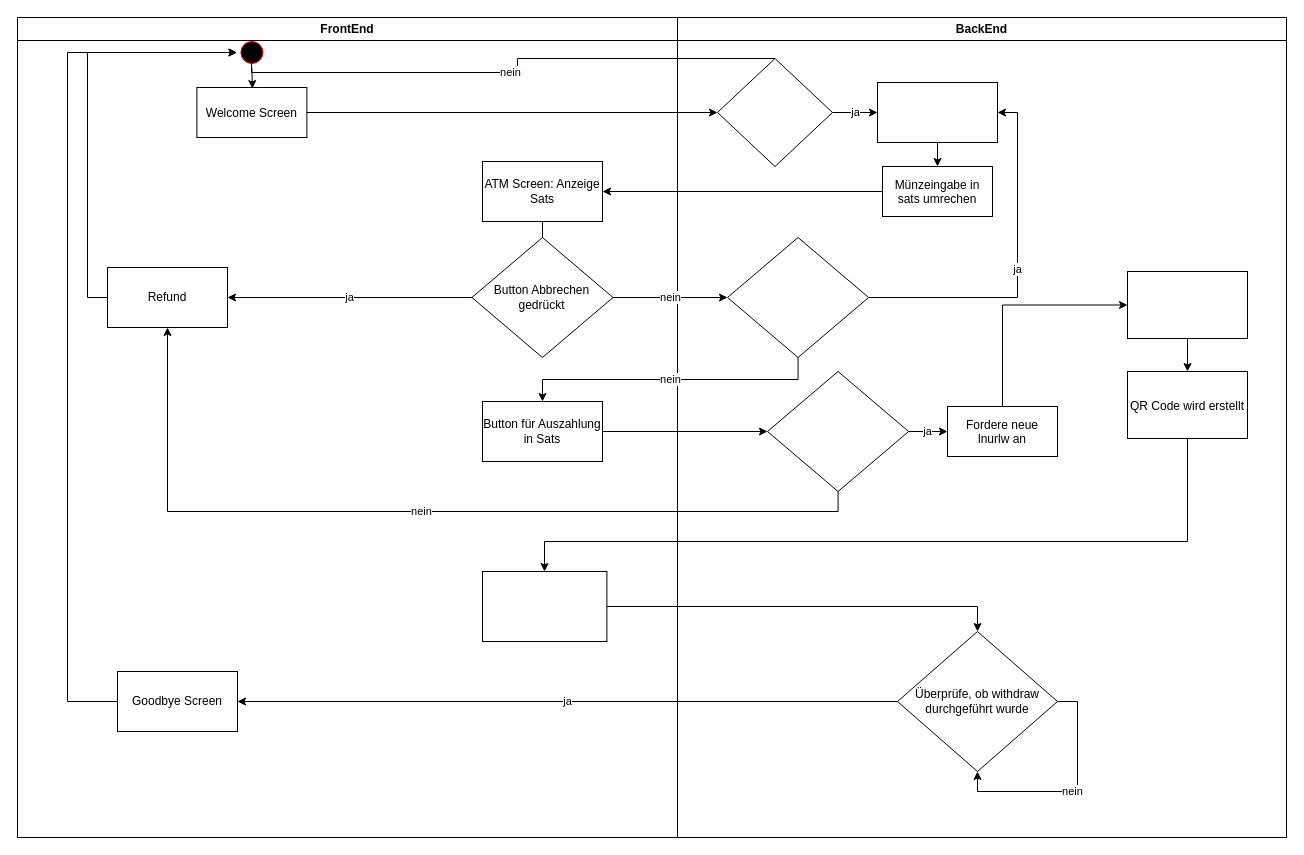
The diagram is 1304 pixels wide and 855 high, and some of its shapes have lost their labels. The centre of each missing label's shape, as x and y in pixels:
Balance ausreichend: the point at 837,431
erstelle lnurlw link mit API Abfrage: the point at 1187,304
get Bitcoin Price von API: the point at 937,112
Münzeingabe festgestellt: the point at 774,112
QR Code wird angezeigt im Exchange Screen abgezeigt: the point at 544,606
Warten auf weitere Münzeingabe.: the point at 797,297
